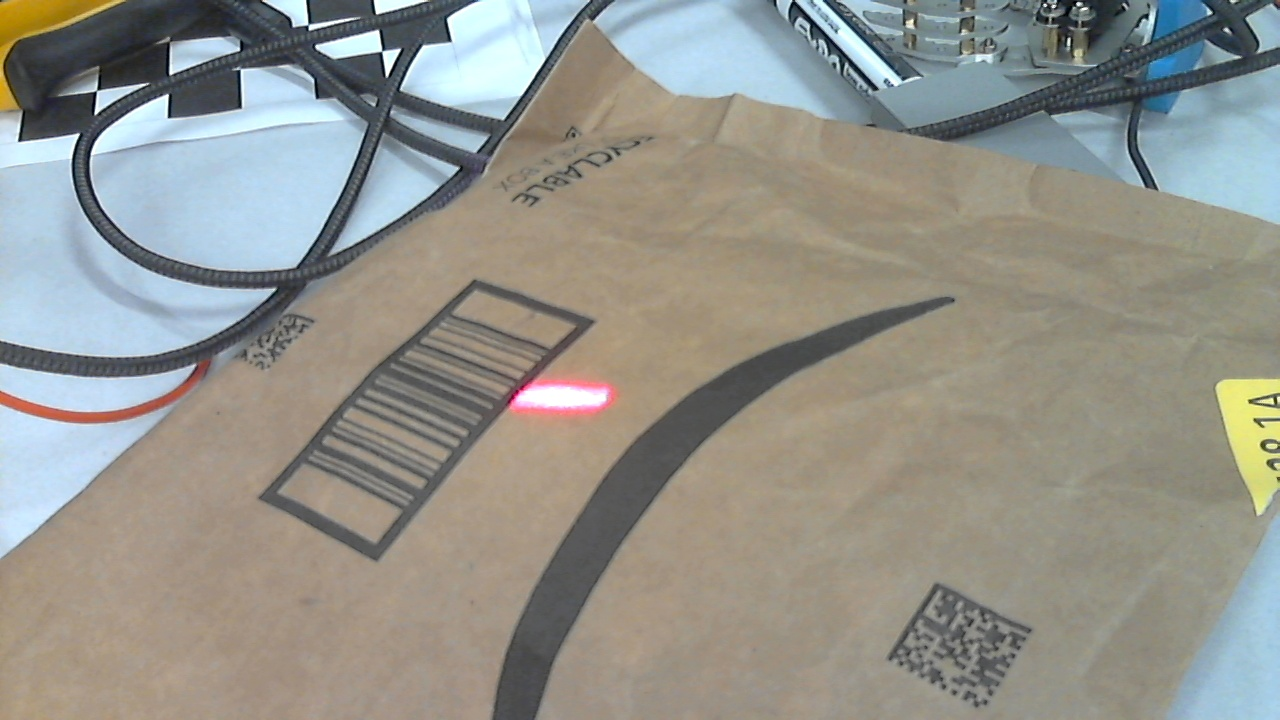Object Amazon recyclable paper mailer - Material paper - Color brown - Pdfname Z: (486, 369, 637, 436)
